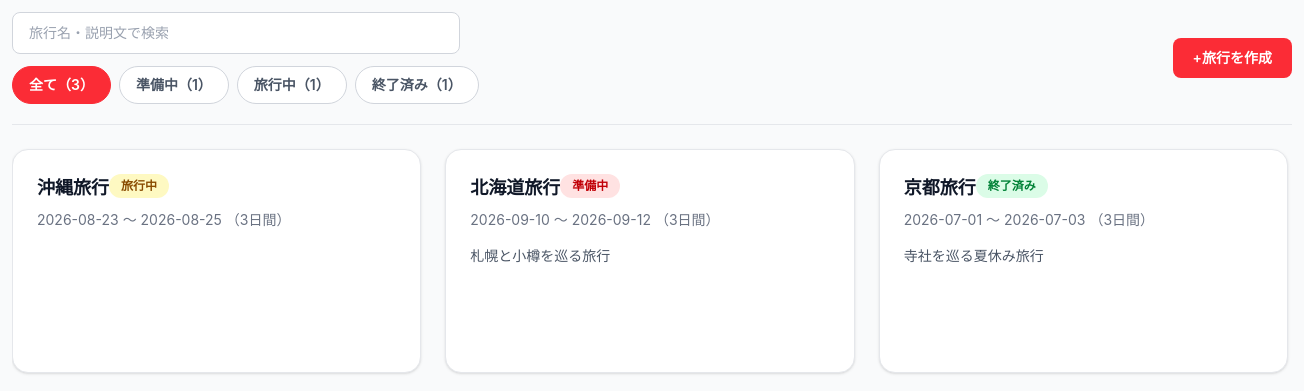
Test case: TripListPage › キーワード検索に合わせてステータスごとの件数を更新する
Check: the heading "北海道旅行" is shown, box left=470, top=174, right=560, bottom=202
Step 1. Type "旅行" into the search field named "キーワードで旅行を検索" → (236, 33), box left=12, top=12, right=460, bottom=54
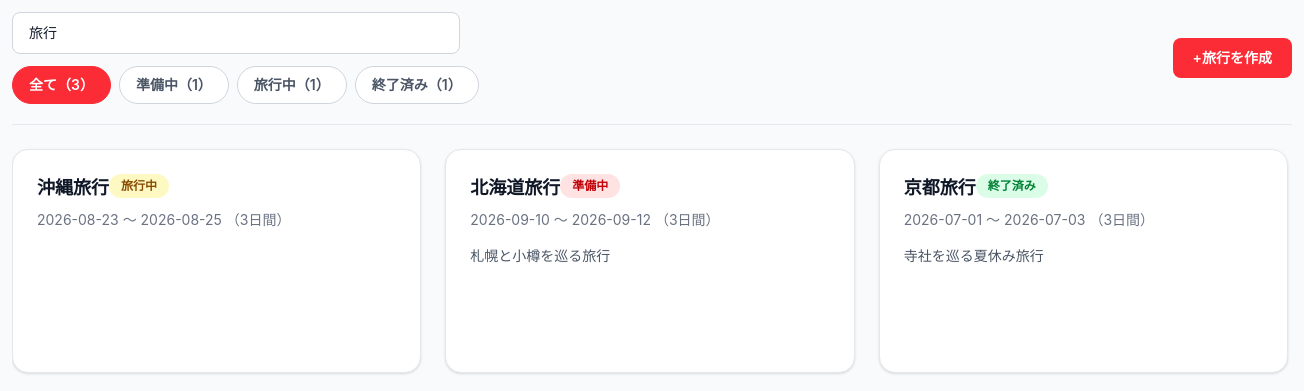
Check: the button "全て（3）" is shown, box left=12, top=66, right=111, bottom=104
Check: the button "準備中（1）" is shown, box left=119, top=66, right=229, bottom=104
Step 2. Replace the text in the search field named "キーワードで旅行を検索" with "寺社" → (236, 33), box left=12, top=12, right=460, bottom=54
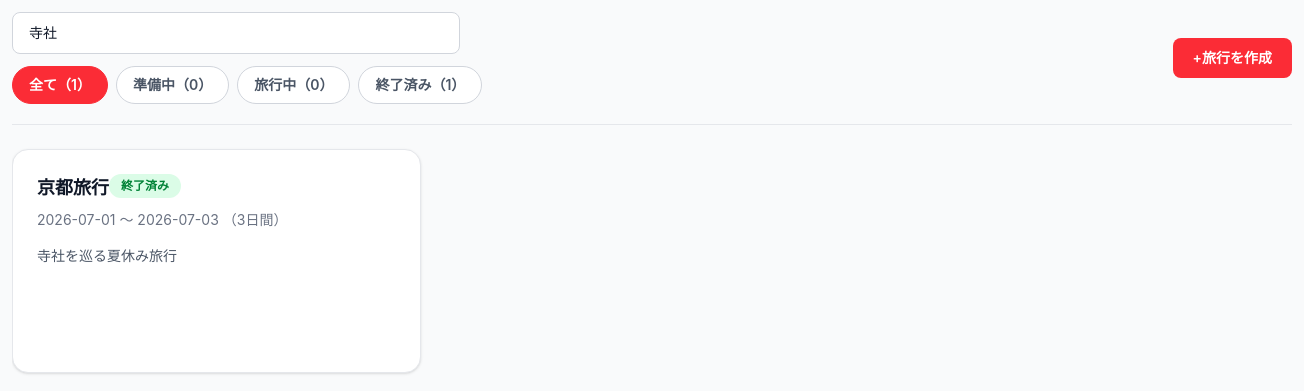
Check: the button "全て（1）" is shown, box left=12, top=66, right=108, bottom=104
Check: the button "準備中（0）" is shown, box left=116, top=66, right=229, bottom=104
Check: the button "旅行中（0）" is shown, box left=237, top=66, right=350, bottom=104
